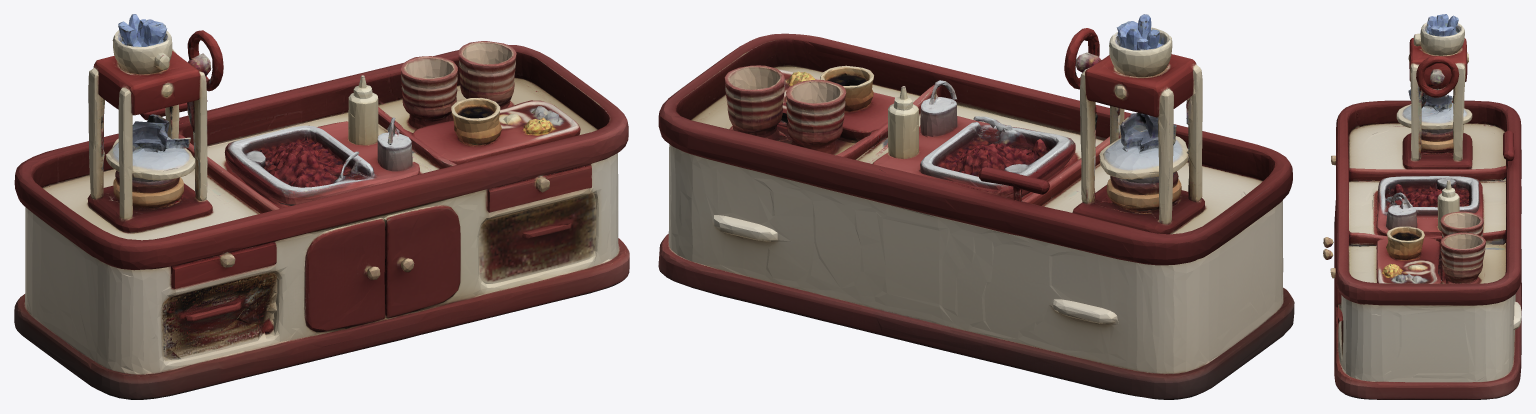
The model's file is KR_사물_s1_redbean_station.glb.
The picture shows the model from 3 angles, left to right: view 1: azimuth 30°, elevation 25°; view 2: azimuth 150°, elevation 25°; view 3: azimuth 270°, elevation 25°; orthographic projection. The views are drawn at different scales.
Parts seen in each view (by area): view 1: world; view 2: world; view 3: world.
Boxes of the visible parts, left/top/right/bottom form: world: left=14, top=14, right=629, bottom=399; world: left=658, top=14, right=1294, bottom=399; world: left=1323, top=14, right=1521, bottom=399.
Size of the model in its own units: 1 by 0.5758 by 0.4437.
1 material, 1 textured.
